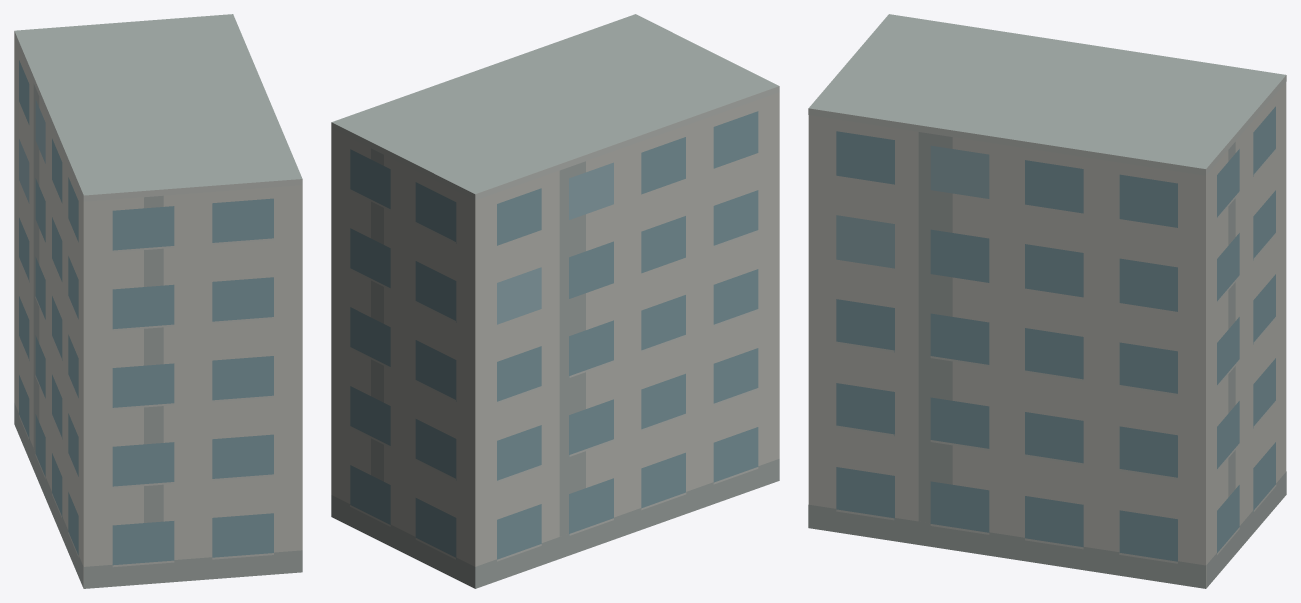
The model's file is residential-beebdd8a-4843-4293-9521-45f42804ef47.glb.
The picture shows the model from 3 angles, left to right: view 1: azimuth 30°, elevation 25°; view 2: azimuth 150°, elevation 25°; view 3: azimuth 270°, elevation 25°; orthographic projection. The views are drawn at different scales.
Visible parts, largest first — view 1: residential-beebdd8a-4843-4293-9521-45f42804ef47.tmp; view 2: residential-beebdd8a-4843-4293-9521-45f42804ef47.tmp; view 3: residential-beebdd8a-4843-4293-9521-45f42804ef47.tmp.
Part boxes in pixels (x1,y1,x2,y2): residential-beebdd8a-4843-4293-9521-45f42804ef47.tmp: (14,14,302,588); residential-beebdd8a-4843-4293-9521-45f42804ef47.tmp: (331,14,779,588); residential-beebdd8a-4843-4293-9521-45f42804ef47.tmp: (808,14,1286,588).
Size of the model in its own units: 12.1 by 15.25 by 15.75.
